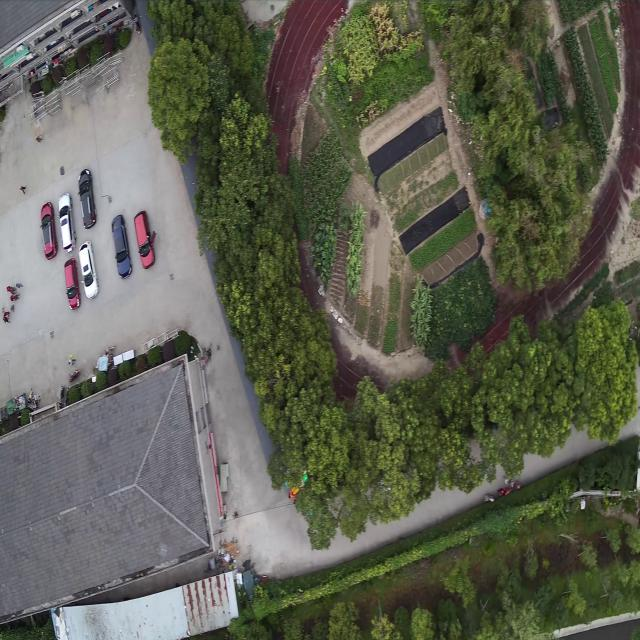UAV: (154, 541, 174, 566)
